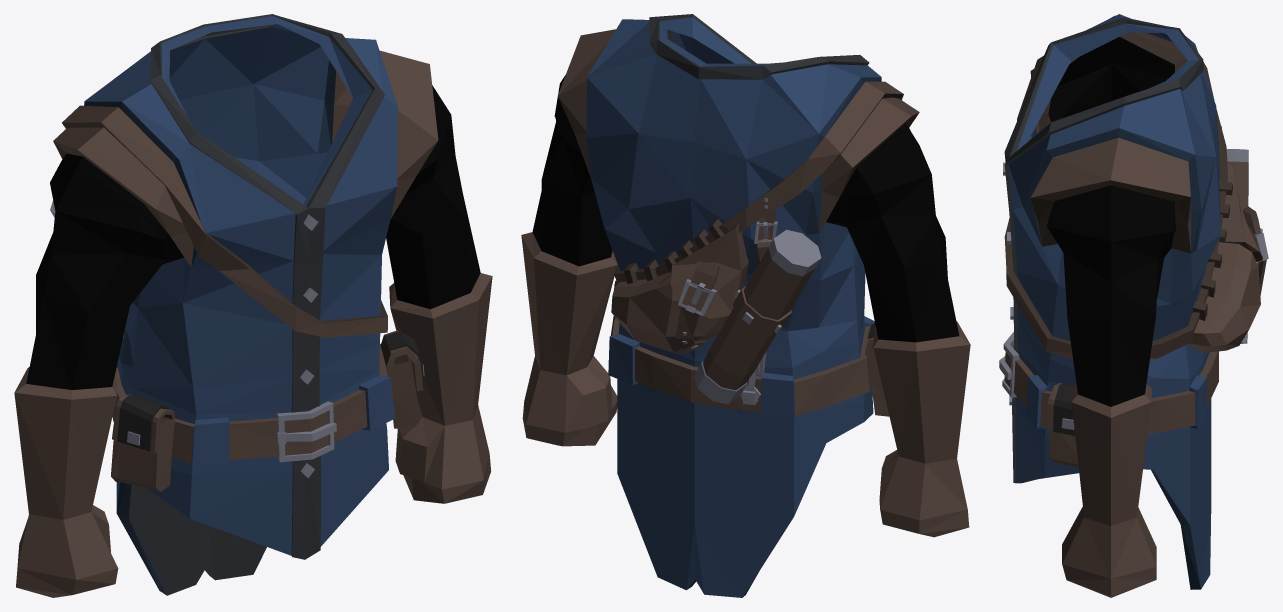
The model's file is MageChest.dae.
3 renders of one model, left to right at view 1: azimuth 30°, elevation 25°; view 2: azimuth 150°, elevation 25°; view 3: azimuth 270°, elevation 25°, orthographic. The views are drawn at different scales.
Visible parts, largest first — view 1: Chest; view 2: Chest; view 3: Chest.
Part boxes in pixels (left/top/right/bottom): Chest: left=14, top=14, right=492, bottom=597; Chest: left=521, top=14, right=970, bottom=597; Chest: left=999, top=14, right=1268, bottom=597.
Size of the model in its own units: 4.73 by 2.51 by 5.31.
